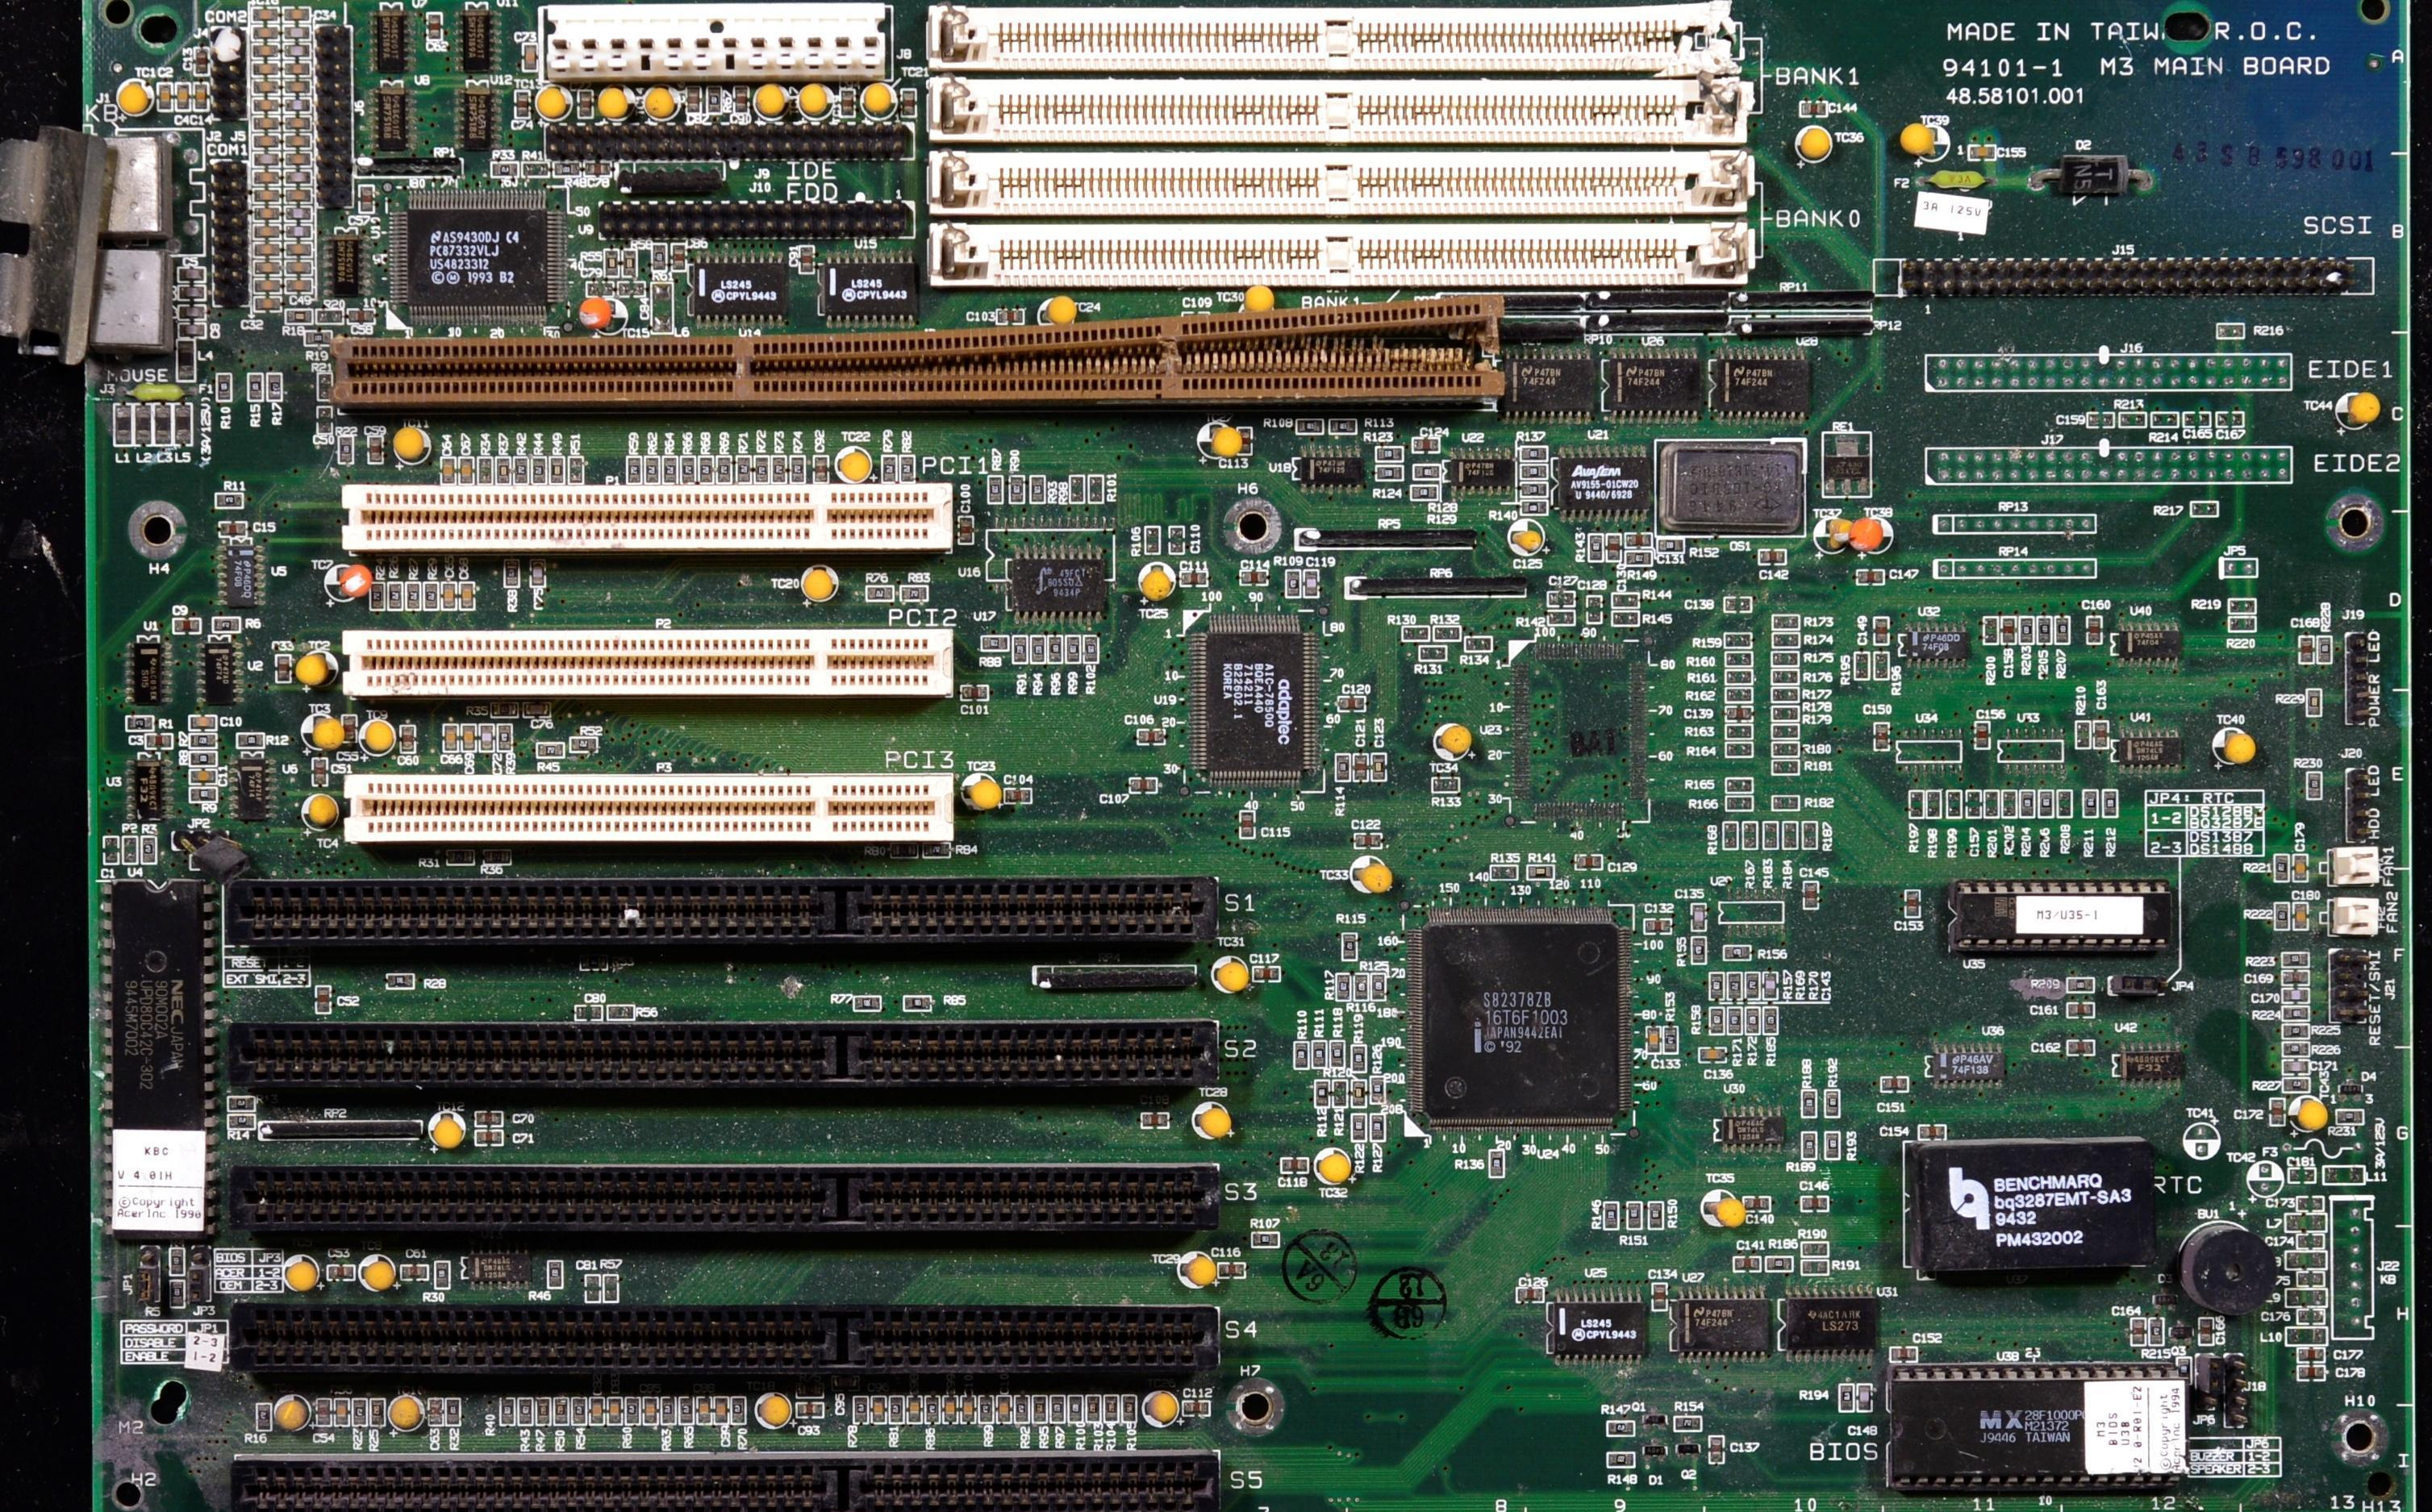Capacitor: (252, 200, 282, 222), (2084, 614, 2102, 647), (282, 131, 312, 151), (2295, 637, 2316, 667), (2063, 1037, 2098, 1054), (252, 95, 282, 115), (285, 256, 315, 275), (281, 81, 313, 97), (250, 26, 283, 43), (248, 61, 282, 78), (1135, 728, 1167, 745), (2130, 1317, 2147, 1346), (258, 219, 282, 241), (582, 1272, 600, 1302), (1857, 1384, 1874, 1414), (282, 149, 313, 168), (1999, 617, 2017, 644), (250, 81, 283, 96), (284, 167, 313, 185), (285, 223, 313, 240), (797, 246, 813, 275), (282, 24, 311, 42), (366, 434, 384, 464), (1873, 615, 1891, 644), (274, 653, 290, 683), (286, 113, 311, 132), (286, 240, 311, 257), (1351, 833, 1383, 848), (794, 1381, 825, 1397), (278, 44, 311, 60), (401, 1264, 429, 1281), (1181, 1399, 1208, 1417), (620, 281, 648, 298), (812, 456, 829, 484), (1605, 534, 1621, 561), (256, 42, 281, 60), (1643, 917, 1672, 932), (687, 86, 702, 116), (282, 186, 312, 202), (285, 206, 313, 222), (583, 282, 614, 298), (172, 619, 202, 635), (281, 61, 311, 77), (2295, 1368, 2327, 1381), (173, 83, 192, 110), (1281, 1156, 1307, 1172), (1650, 1283, 1667, 1310), (253, 184, 279, 202), (359, 186, 376, 213), (346, 308, 373, 326), (1168, 527, 1184, 552), (441, 583, 458, 610), (1353, 755, 1370, 780), (1238, 810, 1254, 837), (2292, 856, 2308, 884), (1645, 1026, 1661, 1053), (839, 90, 855, 118), (516, 89, 530, 120), (2280, 1061, 2311, 1074), (1796, 101, 1824, 116), (1740, 1196, 1772, 1211), (252, 115, 280, 131), (326, 1266, 354, 1282), (869, 1396, 886, 1423), (796, 1402, 824, 1418), (1709, 1435, 1725, 1463), (1967, 147, 1998, 160), (254, 243, 282, 257), (672, 240, 686, 270), (252, 259, 280, 275), (253, 294, 280, 310), (2182, 412, 2213, 427), (1624, 533, 1655, 547), (1854, 570, 1884, 584), (1547, 591, 1575, 606), (1585, 595, 1601, 623), (524, 702, 552, 717), (1974, 720, 1989, 747), (442, 723, 457, 752), (398, 724, 415, 752), (312, 759, 328, 787), (189, 770, 219, 784), (1797, 1196, 1832, 1209), (254, 133, 278, 150), (248, 8, 283, 22), (998, 307, 1023, 323), (1966, 790, 1982, 816), (1917, 1123, 1947, 1137), (2295, 1310, 2324, 1324), (1890, 1347, 1919, 1363), (608, 1397, 623, 1427), (319, 406, 333, 435), (1413, 439, 1442, 453), (458, 456, 473, 486), (220, 520, 248, 535), (1337, 696, 1366, 710), (1722, 706, 1752, 721), (1875, 722, 1888, 752), (144, 735, 173, 749), (1128, 779, 1156, 792), (2067, 1002, 2095, 1018), (1141, 1111, 1168, 1127), (459, 583, 474, 609), (341, 715, 357, 742), (1003, 787, 1030, 802), (105, 835, 118, 863), (2294, 902, 2308, 930), (159, 81, 172, 109), (2281, 970, 2308, 984), (281, 98, 309, 112), (713, 1397, 727, 1425), (318, 1397, 331, 1426), (2088, 414, 2116, 427), (461, 724, 476, 752), (2282, 988, 2307, 1003), (478, 1130, 501, 1146), (2294, 1198, 2326, 1211), (1734, 1255, 1758, 1270), (643, 1400, 658, 1424), (286, 278, 311, 294), (441, 456, 456, 481), (1303, 573, 1318, 597), (1804, 881, 1818, 907), (1905, 889, 1920, 916), (1692, 902, 1706, 929), (1762, 973, 1775, 1000), (316, 985, 331, 1013), (902, 89, 917, 115), (1218, 1263, 1243, 1277), (590, 1397, 605, 1423), (520, 44, 536, 69), (2214, 414, 2243, 426), (2198, 1320, 2213, 1343), (1575, 856, 1604, 868), (736, 90, 749, 116), (2270, 1098, 2284, 1123), (906, 1397, 920, 1421), (430, 1396, 442, 1423), (962, 1399, 974, 1427), (257, 171, 281, 185), (428, 15, 440, 38), (257, 277, 281, 291), (1757, 552, 1784, 564), (1180, 573, 1208, 585), (1241, 573, 1268, 585), (190, 715, 217, 727), (2096, 720, 2109, 747), (479, 727, 494, 753), (1371, 755, 1385, 779), (574, 1005, 602, 1018), (2297, 1348, 2324, 1360), (942, 1397, 954, 1422), (996, 1397, 1008, 1423), (282, 8, 308, 22), (1722, 597, 1750, 610), (1883, 1078, 1906, 1092), (257, 153, 279, 167), (1249, 968, 1279, 980), (1700, 1048, 1725, 1061), (2299, 1272, 2324, 1285), (1520, 1287, 1544, 1300), (336, 1400, 349, 1426), (583, 162, 608, 175), (962, 686, 987, 699), (196, 85, 207, 114), (475, 1113, 504, 1124), (2289, 1170, 2316, 1181), (2293, 1238, 2325, 1248), (581, 91, 591, 115), (697, 1400, 709, 1421), (195, 48, 206, 73)
Connector: (238, 1294, 1223, 1382), (230, 1022, 1218, 1100), (225, 877, 1220, 948), (236, 1163, 1224, 1227), (928, 215, 1758, 289), (926, 73, 1754, 140), (929, 2, 1746, 69), (928, 152, 1758, 217), (341, 627, 959, 699), (347, 774, 956, 843), (343, 483, 954, 547), (540, 6, 891, 81), (1902, 256, 2355, 300), (542, 123, 917, 160), (594, 198, 915, 235)
IC: (1404, 913, 1632, 1140), (1887, 1364, 2192, 1497), (101, 881, 215, 1233), (1192, 615, 1318, 790), (407, 192, 553, 317), (1782, 1283, 1878, 1367), (1552, 1286, 1647, 1367), (821, 256, 917, 330), (1679, 1285, 1771, 1358), (1557, 442, 1646, 518), (1604, 352, 1707, 417), (692, 254, 785, 323), (1500, 349, 1594, 415), (1716, 352, 1810, 415), (1560, 452, 1648, 514), (1012, 559, 1106, 617), (1931, 1044, 2007, 1089), (365, 13, 417, 71), (455, 10, 503, 73), (1454, 450, 1512, 497), (127, 641, 170, 704), (1299, 452, 1366, 492), (2117, 730, 2183, 769), (229, 760, 274, 818), (1907, 622, 1967, 665), (326, 234, 367, 294), (1895, 735, 1966, 772), (2121, 627, 2184, 664), (2119, 1045, 2185, 1081), (131, 760, 171, 818), (202, 641, 238, 700), (375, 90, 413, 147), (2002, 731, 2063, 767), (460, 91, 494, 144)
Resistor: (443, 848, 478, 865), (265, 372, 283, 405), (2217, 321, 2246, 342), (483, 848, 514, 867), (1611, 591, 1642, 609), (1253, 1228, 1280, 1248), (319, 369, 336, 402), (2305, 773, 2324, 802), (546, 1260, 565, 1288), (565, 457, 584, 485), (987, 476, 1005, 503), (1087, 477, 1106, 505), (1069, 477, 1087, 505), (1326, 419, 1358, 435), (2282, 1023, 2311, 1039), (354, 1397, 370, 1427), (512, 456, 529, 485), (1417, 645, 1448, 661), (1798, 824, 1819, 849), (1600, 1202, 1621, 1226), (2337, 1106, 2363, 1125), (1012, 1396, 1031, 1422), (1103, 1397, 1121, 1423), (253, 1403, 272, 1431), (223, 1093, 255, 1110), (1671, 1417, 1701, 1432), (248, 371, 265, 402), (1768, 795, 1800, 810), (383, 974, 419, 987), (1822, 1131, 1839, 1158), (1801, 1258, 1829, 1275), (648, 243, 665, 270), (789, 454, 807, 483), (212, 617, 241, 634), (2057, 788, 2075, 814), (1760, 1010, 1780, 1034), (1781, 823, 1799, 848), (1347, 1081, 1366, 1106), (1081, 638, 1099, 661), (887, 1395, 902, 1426), (1607, 1452, 1636, 1468), (624, 248, 640, 278), (316, 308, 346, 323), (2055, 615, 2071, 644), (2019, 615, 2035, 645), (127, 715, 156, 731), (2075, 720, 2091, 749), (1722, 742, 1752, 757), (607, 1005, 639, 1019), (1429, 778, 1462, 793), (1725, 973, 1742, 999), (1800, 1133, 1817, 1158), (603, 1274, 619, 1300), (1030, 1396, 1046, 1421), (285, 309, 311, 326), (2152, 410, 2178, 427), (769, 457, 786, 483), (680, 458, 697, 484), (1046, 637, 1064, 664), (2020, 791, 2036, 817), (1708, 972, 1725, 999), (852, 998, 884, 1011), (1765, 1256, 1792, 1271), (1067, 1396, 1084, 1422), (603, 250, 618, 279), (338, 432, 352, 464), (478, 456, 493, 484), (645, 456, 661, 485), (698, 458, 715, 486), (216, 494, 244, 508), (503, 560, 519, 589), (407, 581, 421, 610), (2226, 599, 2256, 613), (1545, 610, 1574, 625), (1462, 638, 1492, 652), (487, 702, 519, 716), (2002, 789, 2017, 818), (1909, 788, 1923, 819), (2272, 902, 2288, 927), (1662, 1029, 1679, 1053), (1800, 1090, 1817, 1115), (228, 1114, 252, 1130), (1624, 1204, 1641, 1228), (978, 1397, 995, 1421), (570, 1399, 587, 1423), (625, 454, 642, 480), (2037, 791, 2054, 816), (1490, 864, 1519, 877), (2281, 952, 2309, 967), (1708, 1006, 1723, 1035), (1745, 1006, 1759, 1035), (503, 1396, 515, 1425), (732, 1396, 746, 1425), (1607, 1421, 1635, 1435), (302, 332, 332, 346), (1409, 486, 1439, 500), (1144, 525, 1158, 555), (866, 585, 895, 600), (2274, 856, 2289, 881), (2150, 1319, 2165, 1344), (1838, 1384, 1853, 1410), (923, 1397, 939, 1422), (445, 1399, 462, 1424), (555, 162, 582, 177), (736, 454, 752, 481), (661, 456, 677, 482), (1587, 533, 1604, 559), (2035, 618, 2050, 644), (1725, 668, 1751, 682), (1773, 724, 1799, 739), (570, 736, 596, 752), (538, 742, 565, 758), (1083, 1396, 1100, 1418), (1721, 820, 1735, 849), (2283, 1078, 2310, 1093), (1802, 1242, 1829, 1256), (171, 1282, 184, 1310), (1121, 1395, 1137, 1422), (1296, 419, 1324, 433), (753, 457, 767, 484), (1657, 539, 1684, 552), (1285, 569, 1300, 597), (1772, 614, 1799, 628), (1984, 618, 1998, 646), (1434, 625, 1462, 639), (237, 734, 265, 747), (1725, 778, 1753, 792), (552, 1400, 569, 1426), (534, 1401, 550, 1425), (524, 162, 549, 177), (389, 585, 403, 610), (1851, 653, 1868, 678), (1871, 653, 1888, 678), (1925, 790, 1942, 816), (2101, 791, 2117, 816), (1646, 1204, 1666, 1223), (141, 835, 155, 861), (1725, 946, 1750, 960), (1728, 1009, 1742, 1035), (169, 1247, 183, 1274), (436, 1260, 450, 1287), (216, 373, 230, 398), (882, 456, 897, 483), (902, 456, 916, 482), (1521, 464, 1546, 477), (496, 458, 510, 484), (1010, 476, 1025, 502), (1625, 551, 1652, 564), (369, 583, 384, 609), (1402, 625, 1428, 639), (2319, 638, 2332, 664), (1335, 754, 1349, 780), (1774, 760, 1799, 774), (1984, 791, 1998, 818), (2084, 791, 2098, 818), (2065, 981, 2095, 993), (1032, 474, 1045, 503), (897, 587, 926, 599), (1611, 611, 1641, 623), (2306, 686, 2319, 716), (188, 735, 218, 748), (1370, 976, 1386, 998), (1744, 823, 1758, 847), (123, 835, 136, 864), (1337, 974, 1350, 998), (2284, 1006, 2309, 1018), (1311, 1042, 1324, 1066), (1317, 1077, 1329, 1105), (1491, 1149, 1503, 1178), (1051, 1395, 1062, 1422), (853, 1397, 866, 1422), (681, 1397, 693, 1425), (490, 162, 516, 177), (2121, 414, 2147, 426), (532, 460, 546, 485), (2230, 615, 2255, 629), (1725, 633, 1750, 647), (1012, 635, 1026, 660), (1066, 638, 1079, 661), (1770, 652, 1798, 664), (498, 727, 513, 751), (1764, 823, 1777, 848), (1526, 865, 1553, 878), (2282, 1041, 2309, 1053), (628, 1397, 639, 1423), (1774, 689, 1800, 702), (1725, 726, 1750, 739), (1725, 796, 1751, 809), (1353, 1045, 1366, 1068), (1370, 1117, 1383, 1139), (1030, 635, 1044, 659), (1693, 935, 1704, 964), (189, 754, 219, 765), (1341, 935, 1358, 955), (1371, 1079, 1383, 1102), (1377, 448, 1401, 460), (1774, 671, 1798, 682), (1774, 743, 1797, 754), (1825, 1089, 1837, 1117), (1413, 468, 1441, 479), (2189, 505, 2217, 516), (1330, 1041, 1344, 1064), (1295, 1043, 1307, 1067), (1354, 1114, 1366, 1138), (1521, 482, 1544, 494), (904, 995, 930, 1006), (370, 1397, 382, 1423), (520, 1399, 532, 1425), (1522, 448, 1549, 459), (550, 456, 561, 482), (1522, 502, 1548, 512), (427, 582, 437, 607), (1725, 652, 1750, 662), (1772, 710, 1797, 720), (716, 460, 731, 480), (708, 86, 720, 112), (1748, 976, 1758, 1000), (661, 1401, 672, 1424), (1377, 468, 1400, 478), (1946, 795, 1959, 816), (1354, 980, 1366, 998), (1333, 1083, 1345, 1103), (1770, 637, 1800, 645), (1726, 688, 1750, 697), (980, 642, 1006, 648)
